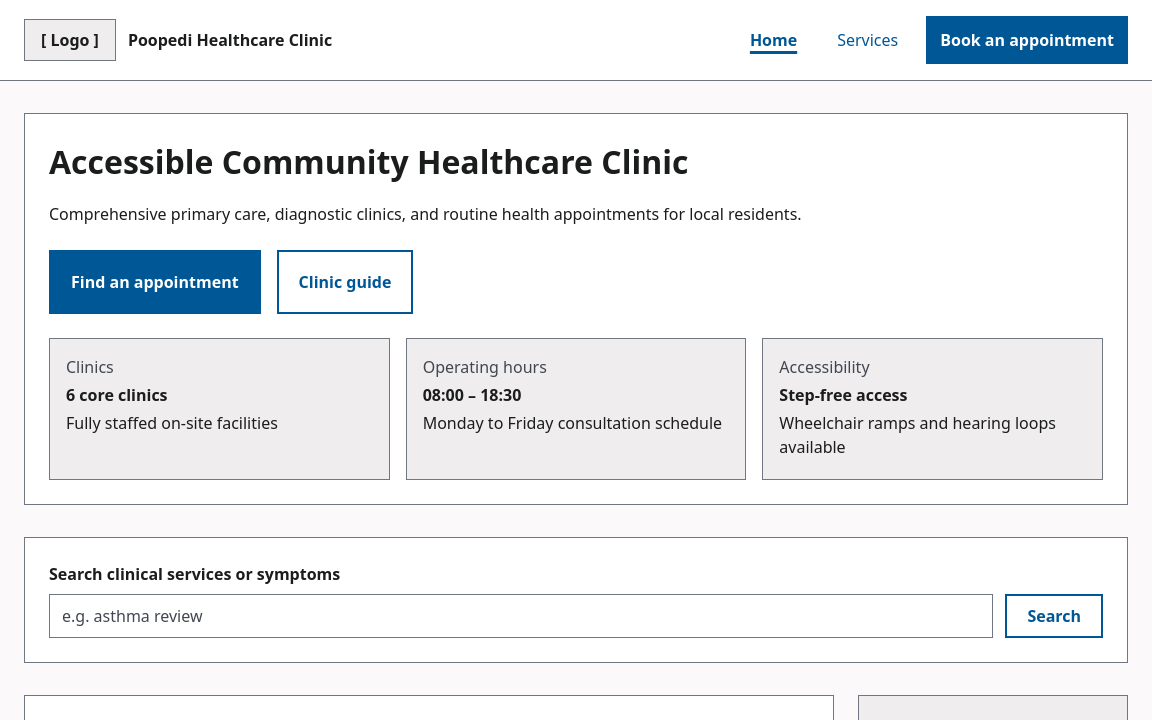
Test: App shell and navigation › carries a home page search through to the services list
The image size is (1152, 720).
In the search field labelled "Search clinical services or symptoms": [521, 616] box [49,594,993,638], type "asthma"
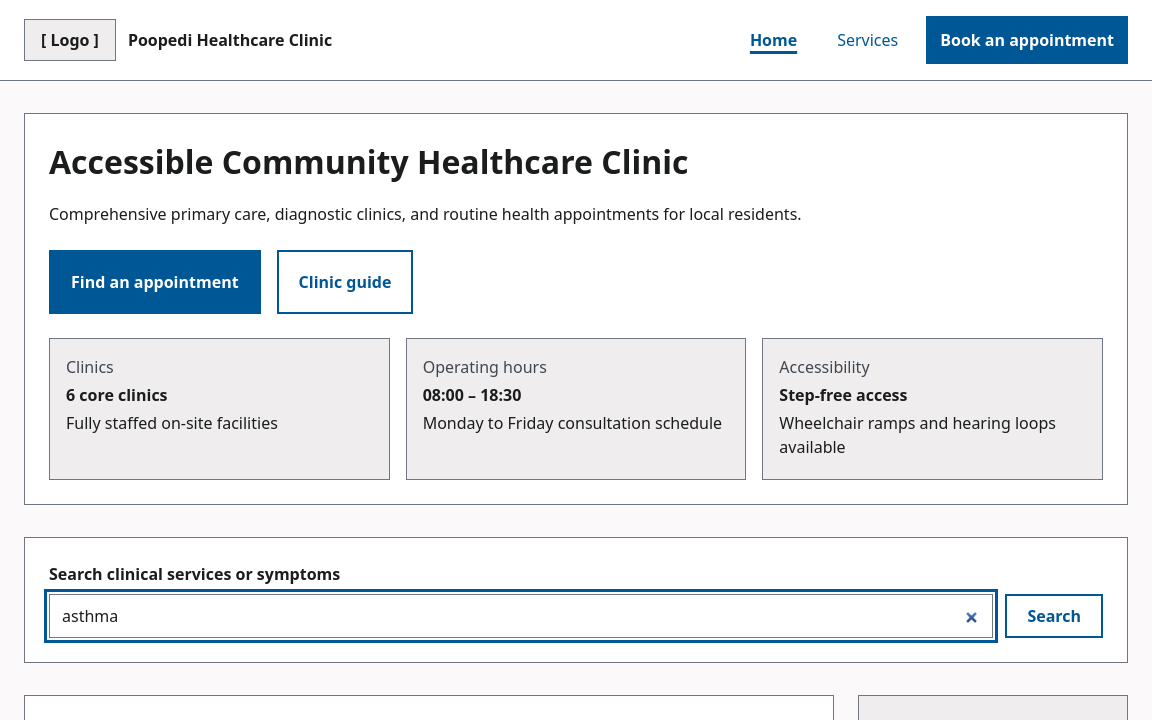
Click the button "Search": [1054, 616] box [1005,594,1103,638]
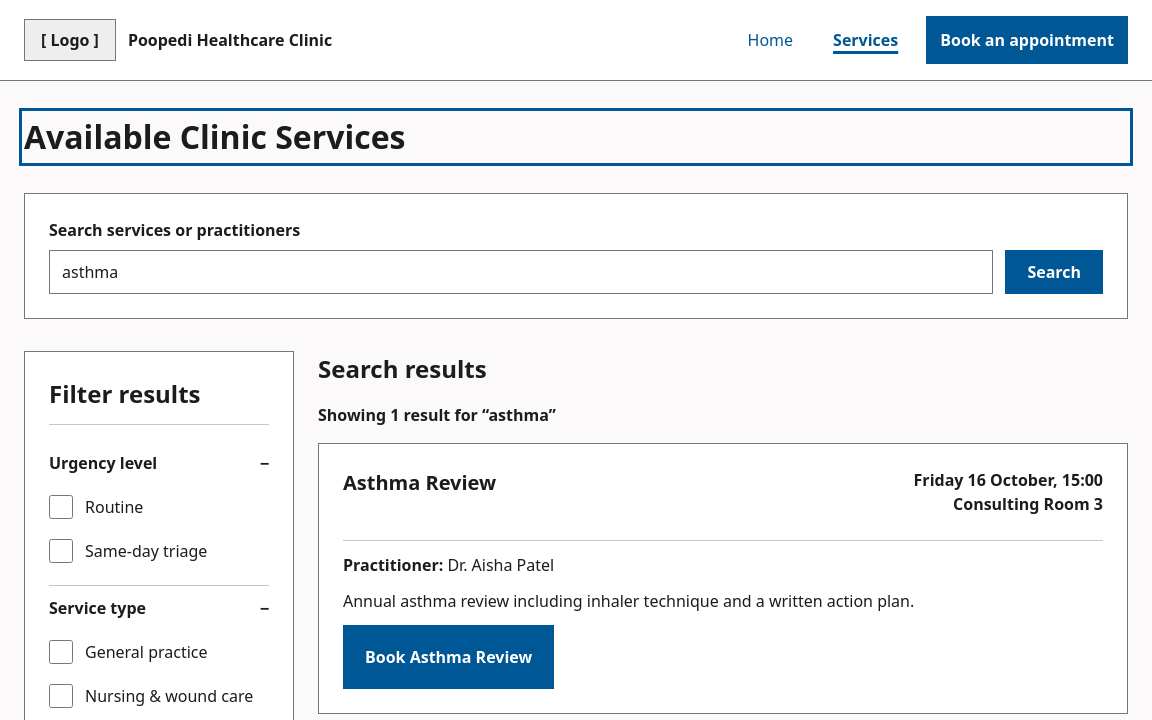
Result: the text "Showing 1 result for “asthma”" is shown at [318,404,556,426]
